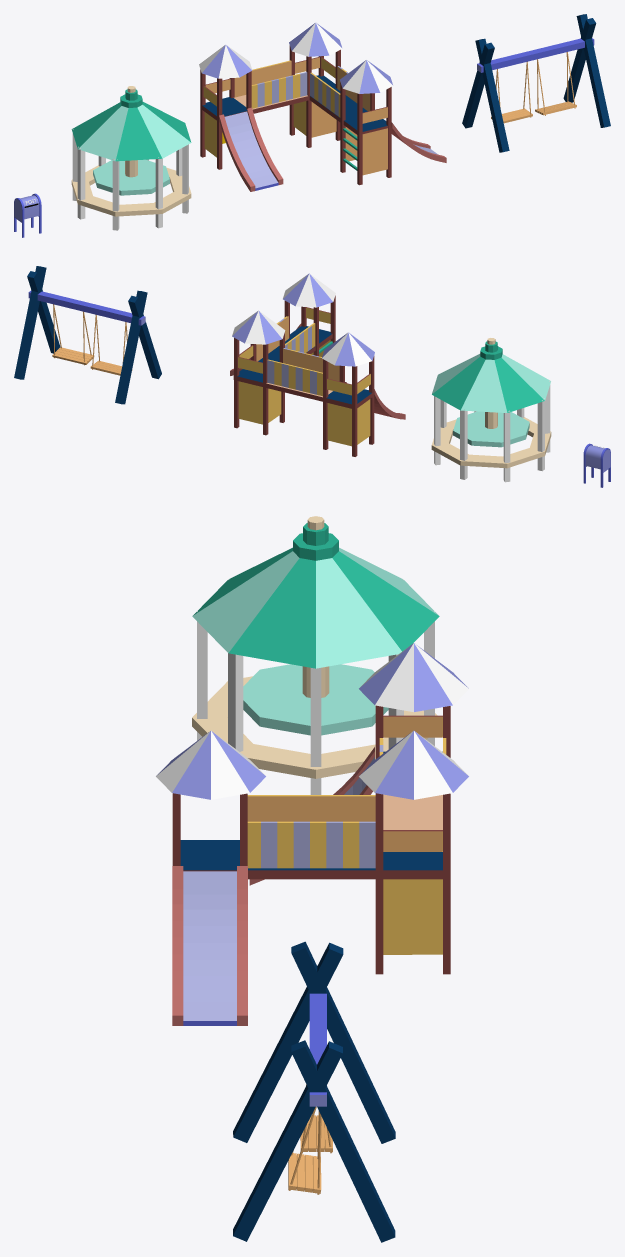
The model's file is park_lv3.fbx.
The picture shows the model from 3 angles, top to bottom: view 1: azimuth 30°, elevation 25°; view 2: azimuth 150°, elevation 25°; view 3: azimuth 270°, elevation 25°; orthographic projection. The views are drawn at different scales.
Parts seen in each view (by area): view 1: park_lv3, pergola_lv3, swing_lv3, post_lv3; view 2: park_lv3, pergola_lv3, swing_lv3, post_lv3; view 3: park_lv3, pergola_lv3, swing_lv3.
Boxes of the visible parts, box(x1,y1,x2,y2) form: park_lv3: box(199, 22, 446, 191); pergola_lv3: box(71, 86, 191, 230); swing_lv3: box(462, 14, 610, 152); post_lv3: box(14, 193, 41, 237); park_lv3: box(230, 273, 405, 456); pergola_lv3: box(431, 338, 551, 482); swing_lv3: box(14, 266, 161, 404); post_lv3: box(583, 443, 610, 487); park_lv3: box(156, 643, 468, 1025); pergola_lv3: box(192, 516, 439, 794); swing_lv3: box(233, 941, 395, 1242).
Bounding box in the file's own units: 5252 × 1209 × 1241.
